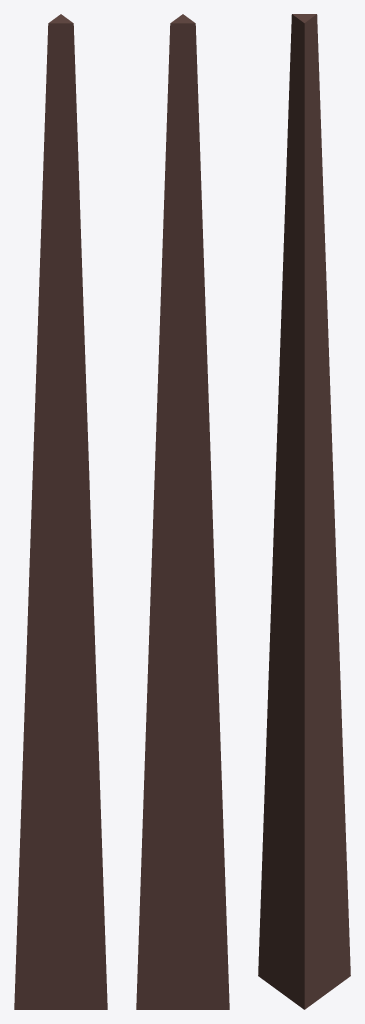
File: dead_ember_far.glb
3 renders of one model, left to right at view 1: azimuth 90°, elevation 25°; view 2: azimuth 210°, elevation 25°; view 3: azimuth 270°, elevation 25°, orthographic.
Parts seen in each view (by area): view 1: dead_ember_far; view 2: dead_ember_far; view 3: dead_ember_far.
Boxes of the visible parts, x1,y1,x2,y2 form: dead_ember_far: (14,14,107,1009); dead_ember_far: (136,14,229,1009); dead_ember_far: (258,14,350,1009).
Size of the model in its own units: 0.165 by 2.2 by 0.1905.
